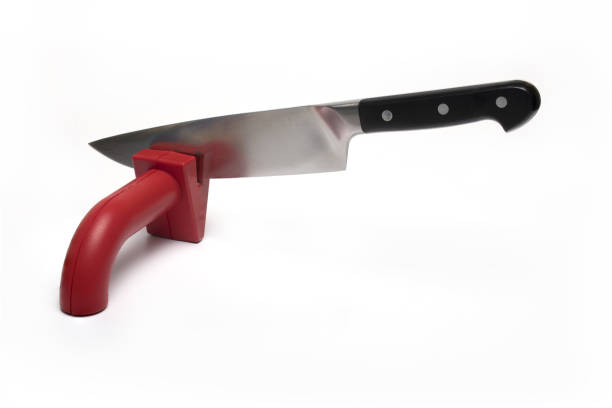knife: (85, 77, 541, 181)
